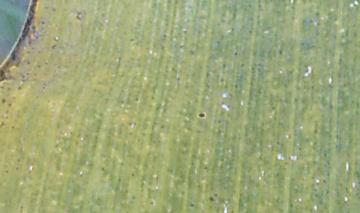tarspot: (197, 112, 206, 119), (208, 195, 215, 203), (189, 201, 195, 208), (232, 51, 239, 57), (1, 97, 7, 104)
